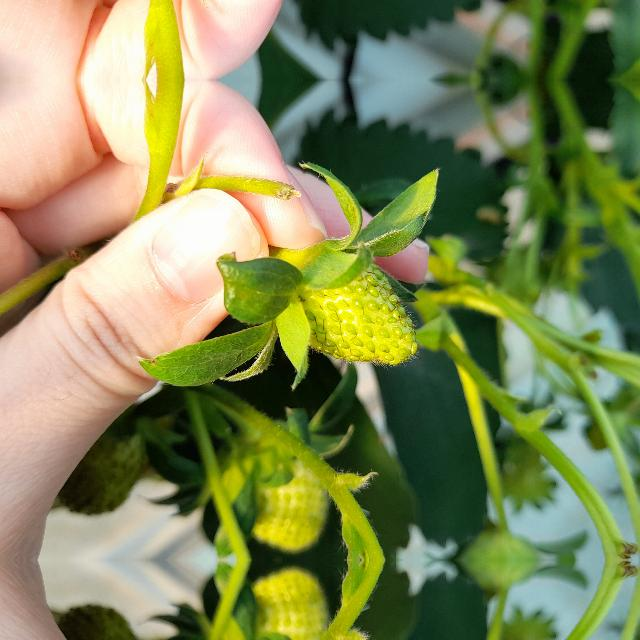Health_25: (306, 260, 420, 370)
